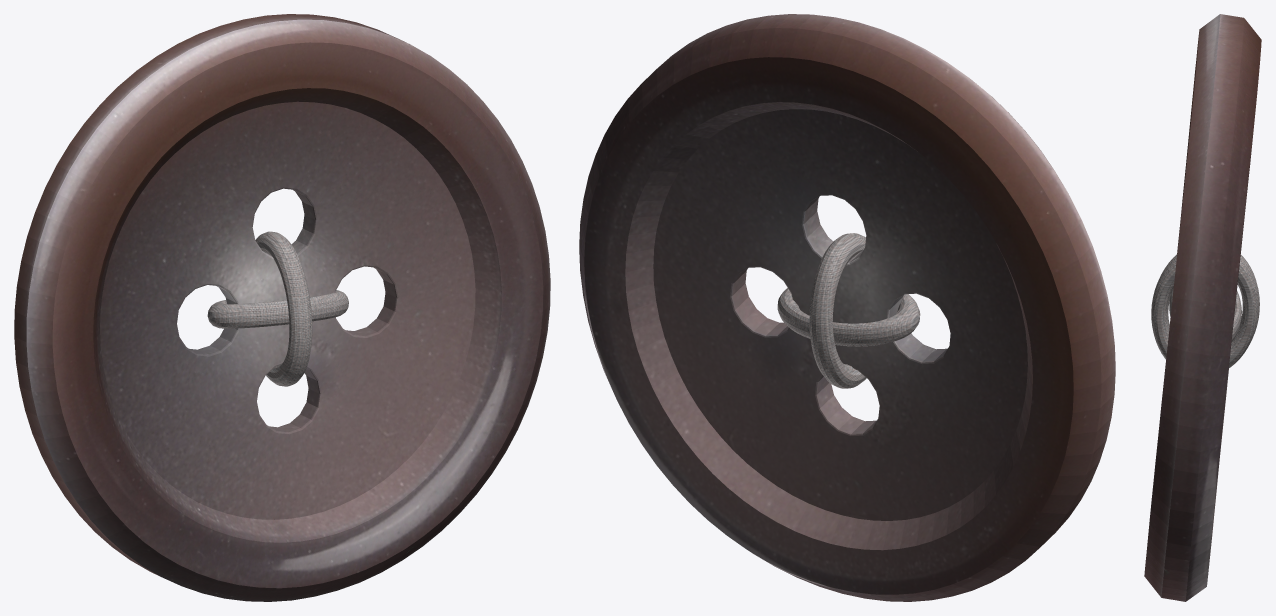
File: Single_Shall_Buttons.glb
The picture shows the model from 3 angles, left to right: view 1: azimuth 30°, elevation 25°; view 2: azimuth 150°, elevation 25°; view 3: azimuth 270°, elevation 25°; orthographic projection. The views are drawn at different scales.
Visible parts, largest first — view 1: Single_Shall_Buttons; view 2: Single_Shall_Buttons; view 3: Single_Shall_Buttons.
Part boxes in pixels (<box>): Single_Shall_Buttons: <box>14,14,550,601</box>; Single_Shall_Buttons: <box>579,14,1115,601</box>; Single_Shall_Buttons: <box>1144,14,1261,601</box>.
Bounding box in the file's own units: 0.00282 × 0.00297 × 0.000601.
Materials: 2 (2 with a texture image).
